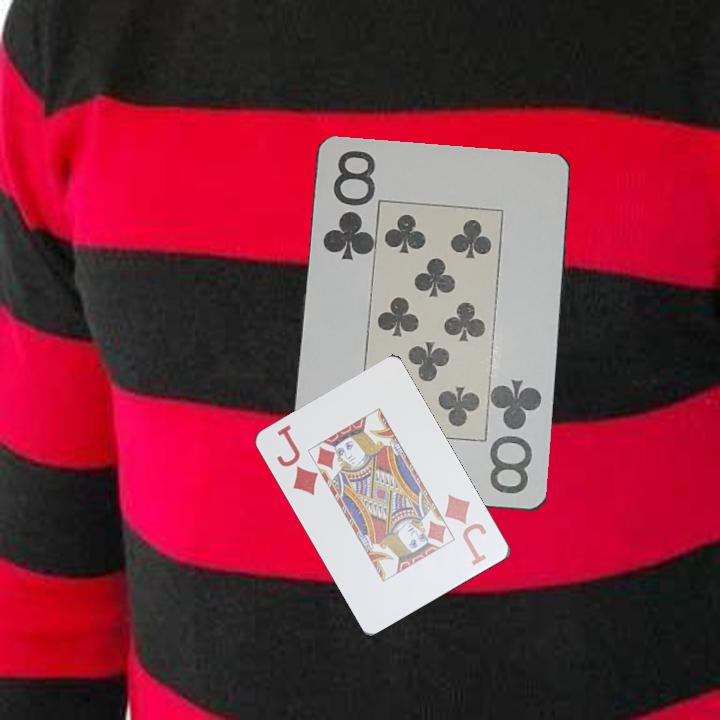8c: (487, 375, 546, 498), (319, 147, 377, 264)
Jd: (442, 490, 490, 568), (273, 421, 321, 499)
